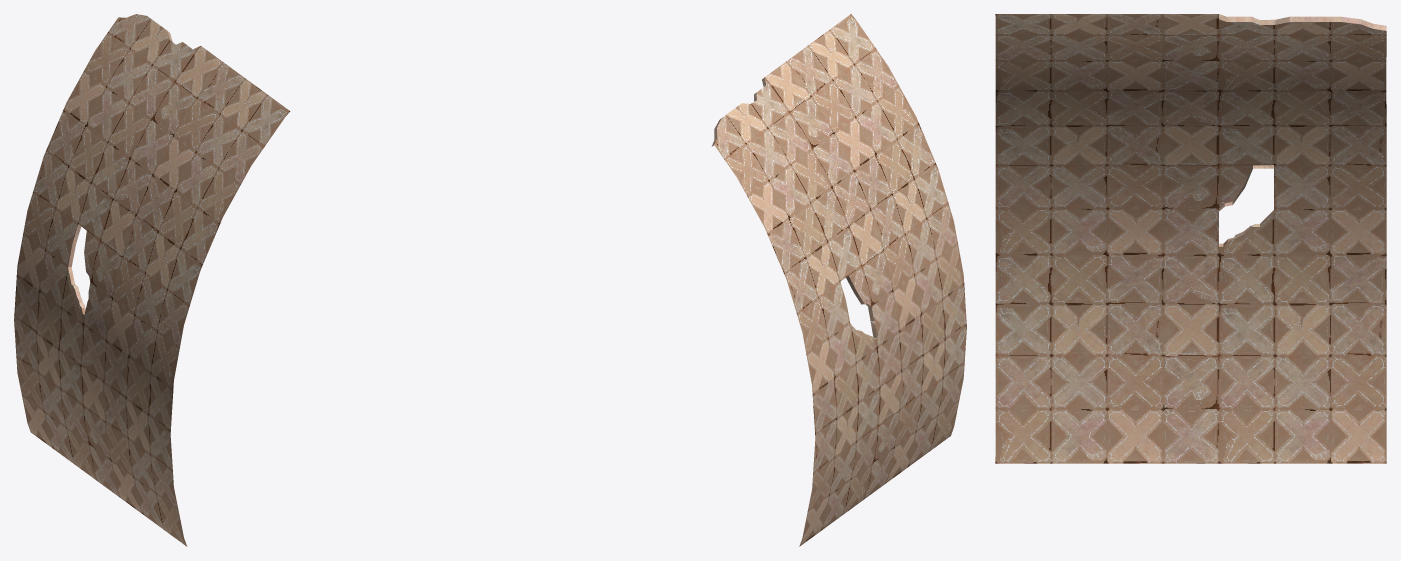
The model's file is VisibleParts000.obj.
3 views of the same model, side by side, from view 1: azimuth 30°, elevation 25°; view 2: azimuth 150°, elevation 25°; view 3: azimuth 270°, elevation 25° (orthographic). The views are drawn at different scales.
Visible parts, largest first — view 1: pCylinder2__ReliefStoneCross01; view 2: pCylinder2__ReliefStoneCross01; view 3: pCylinder2__ReliefStoneCross01, pCylinder2__BlockStoneBase02.
Boxes of the visible parts, box(x1,y1,x2,y2) form: pCylinder2__ReliefStoneCross01: box(14, 14, 290, 546); pCylinder2__ReliefStoneCross01: box(714, 14, 966, 546); pCylinder2__ReliefStoneCross01: box(995, 14, 1386, 463); pCylinder2__BlockStoneBase02: box(1216, 14, 1386, 246).
Bounding box in the file's own units: 1010 × 1012 × 700.
3 materials, 2 textured.
